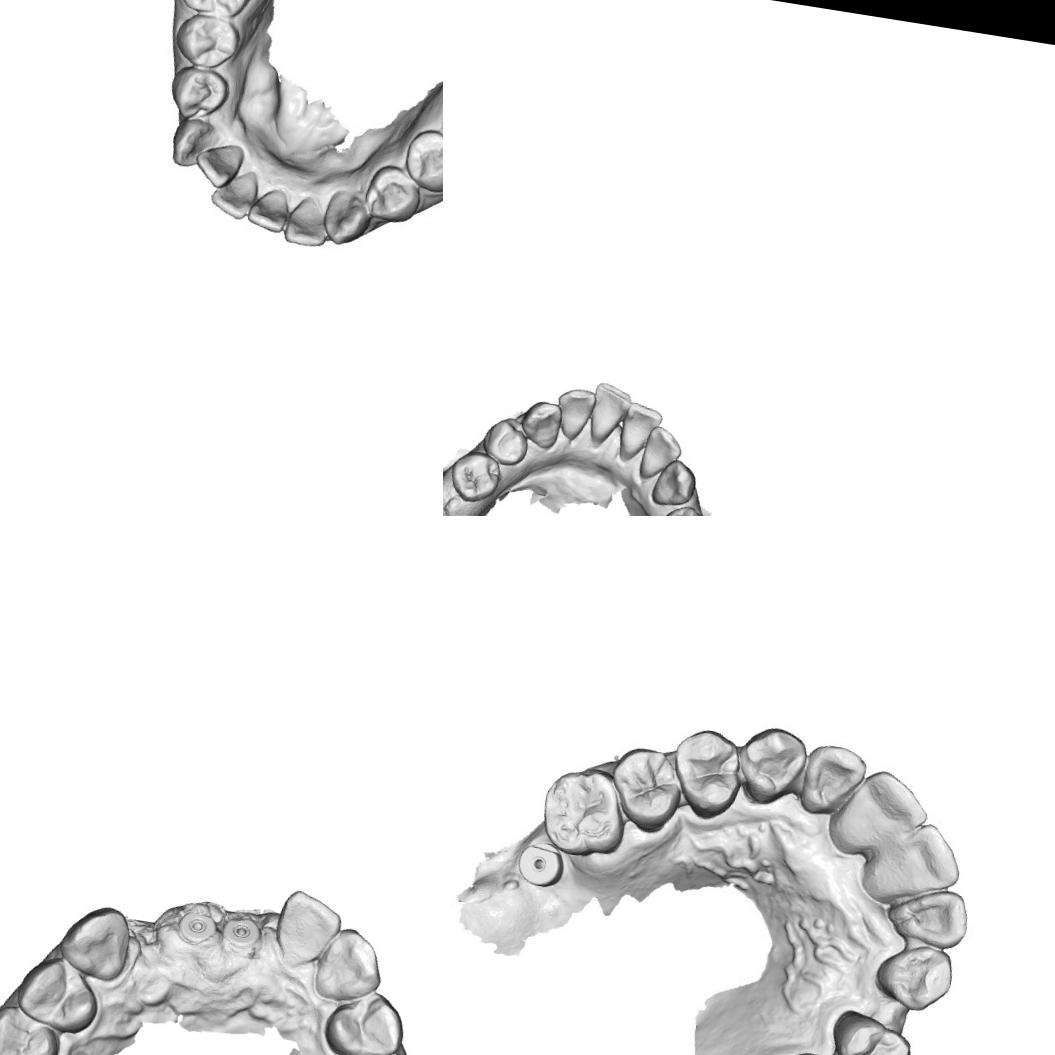canine: (733, 719, 811, 813), (870, 938, 962, 1016), (54, 899, 138, 984), (311, 922, 389, 1009), (318, 188, 370, 250), (648, 454, 700, 510), (515, 396, 565, 453), (168, 118, 219, 172)
implant: (514, 843, 570, 888), (218, 913, 260, 952), (178, 906, 216, 948)
incisor: (863, 810, 967, 911), (832, 765, 932, 865), (270, 884, 344, 972), (795, 738, 870, 822), (895, 881, 974, 952), (586, 380, 635, 446), (616, 398, 666, 461), (636, 421, 686, 483), (204, 165, 260, 219), (550, 384, 596, 444), (282, 196, 334, 248), (245, 180, 293, 232), (195, 137, 243, 187)
molar: (535, 762, 634, 863), (174, 0, 267, 21)
premolar: (664, 720, 748, 824), (11, 950, 104, 1036), (604, 741, 687, 836), (320, 986, 407, 1055), (823, 1001, 920, 1055), (359, 162, 426, 228), (175, 15, 241, 77), (169, 65, 232, 121), (447, 448, 506, 506), (0, 1001, 63, 1055), (478, 413, 532, 470), (403, 128, 443, 192), (653, 500, 713, 516)
